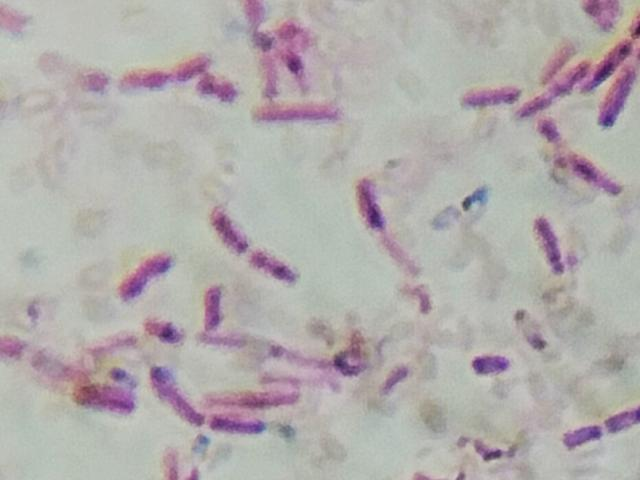E. coli: (146, 365, 196, 430), (528, 210, 573, 281), (209, 376, 301, 407), (119, 249, 176, 297), (258, 99, 345, 129), (572, 149, 623, 199), (471, 342, 521, 391), (68, 375, 136, 411), (119, 59, 209, 86), (525, 69, 586, 105), (599, 21, 640, 72), (597, 72, 631, 127), (246, 245, 296, 280), (556, 417, 600, 455), (603, 400, 640, 443), (356, 177, 384, 231), (213, 410, 267, 438), (452, 82, 506, 110), (213, 209, 250, 247), (261, 49, 288, 95), (191, 70, 233, 98), (202, 280, 224, 329), (538, 110, 561, 153), (142, 312, 172, 336)
